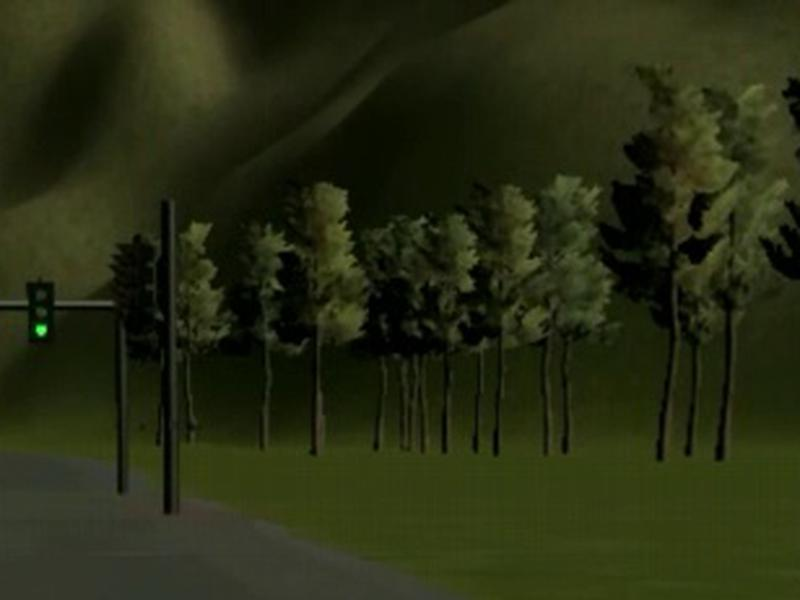Green: (25, 281, 55, 344)
